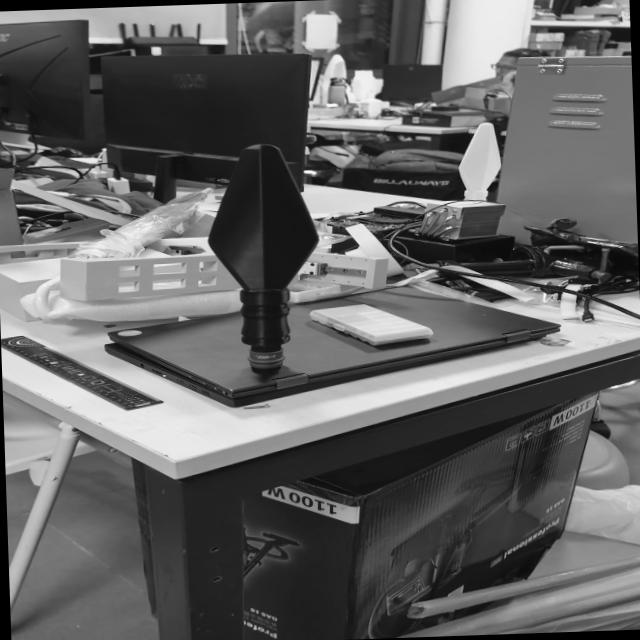base: (242, 346, 289, 376)
